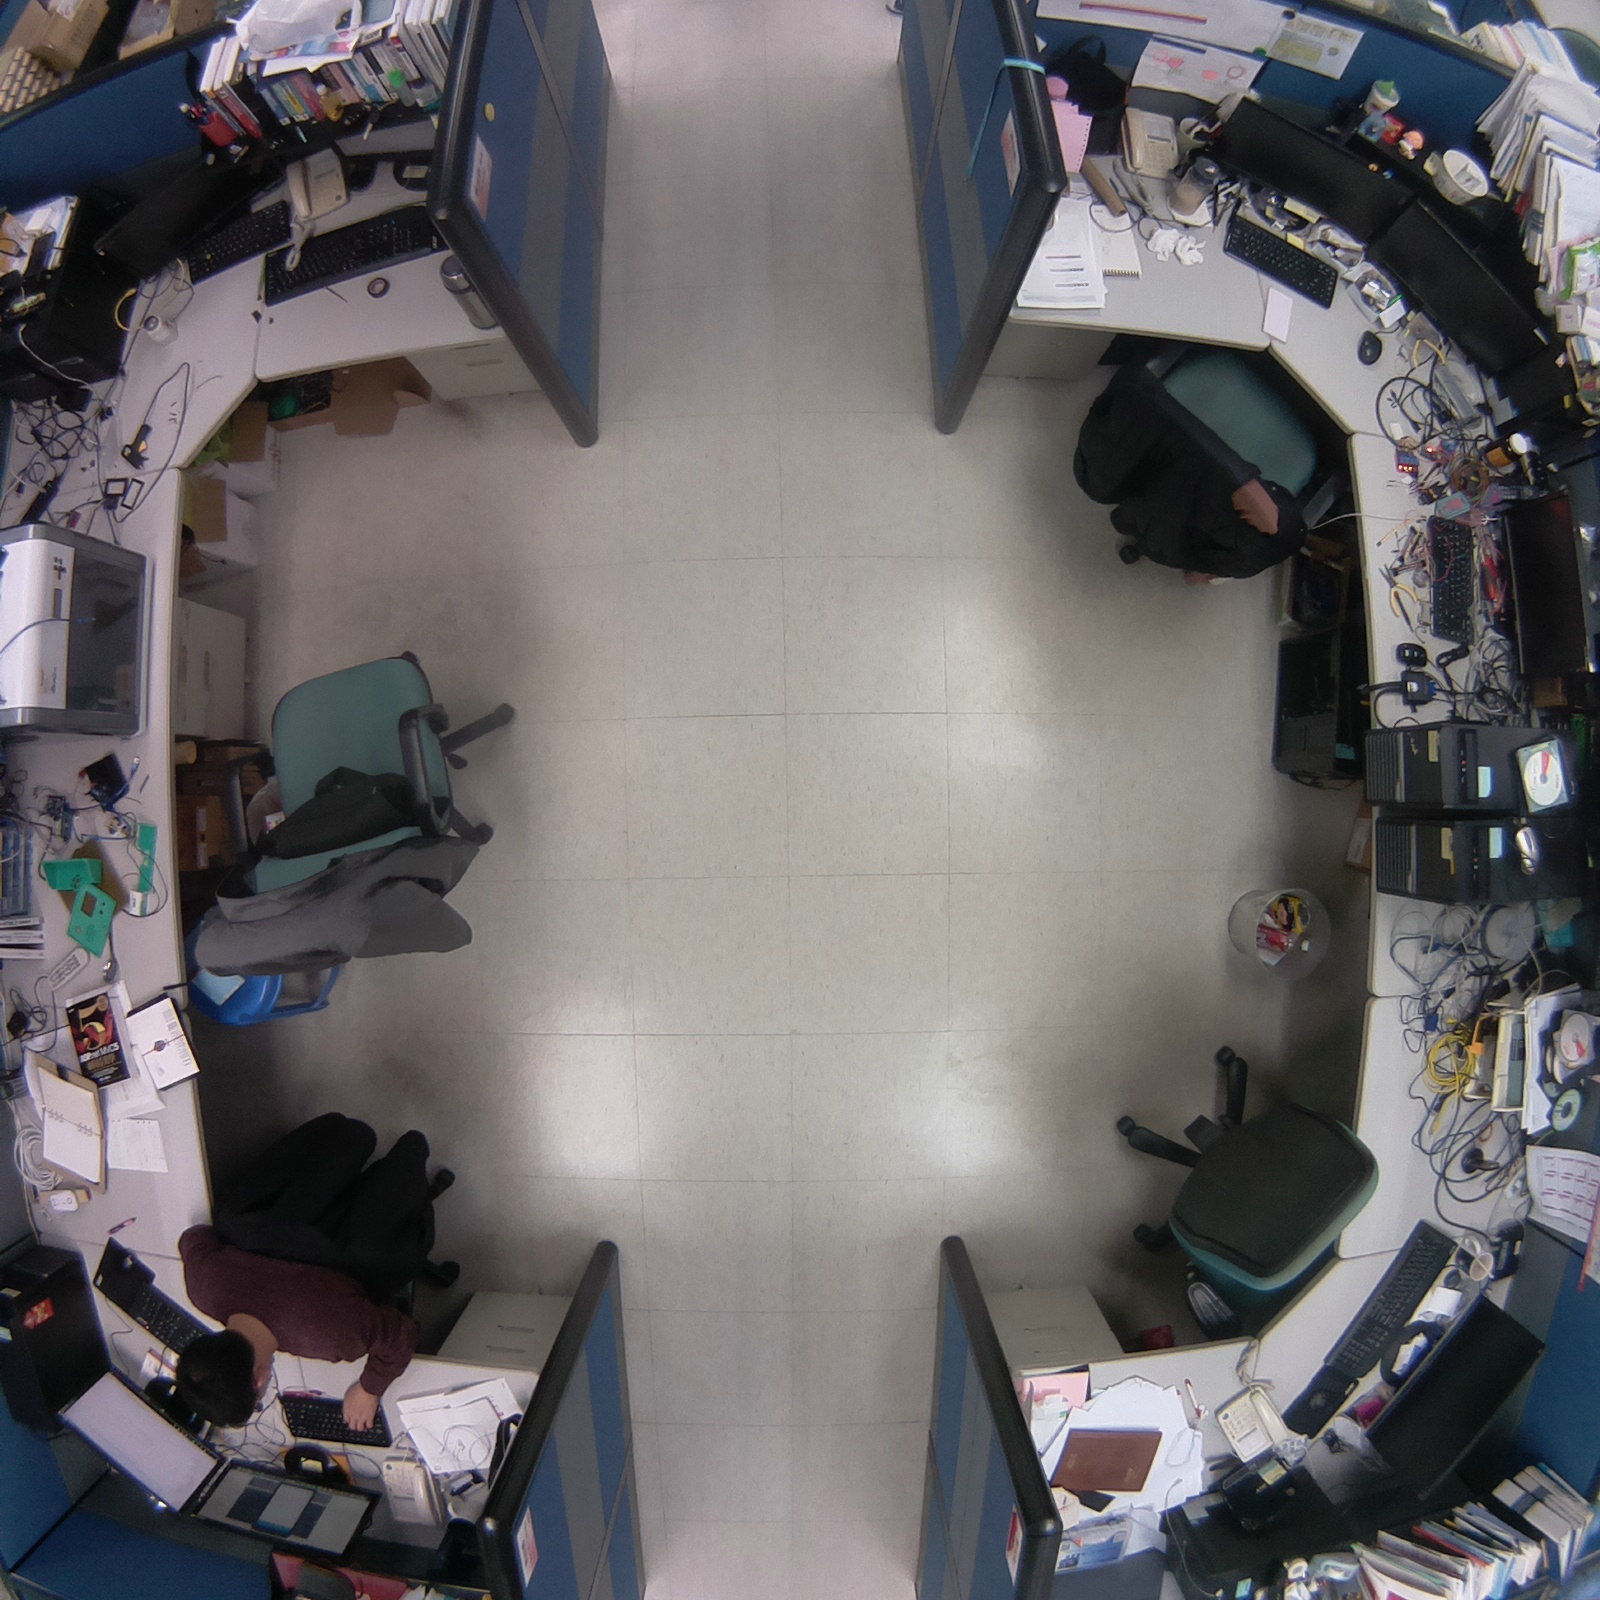chair: (173, 614, 542, 1004), (1081, 1009, 1396, 1340), (1053, 329, 1347, 596)
head: (166, 1319, 272, 1431)
sitting: (162, 1096, 476, 1446)
